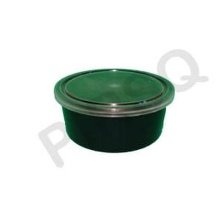plastic_box: (47, 61, 180, 158)
